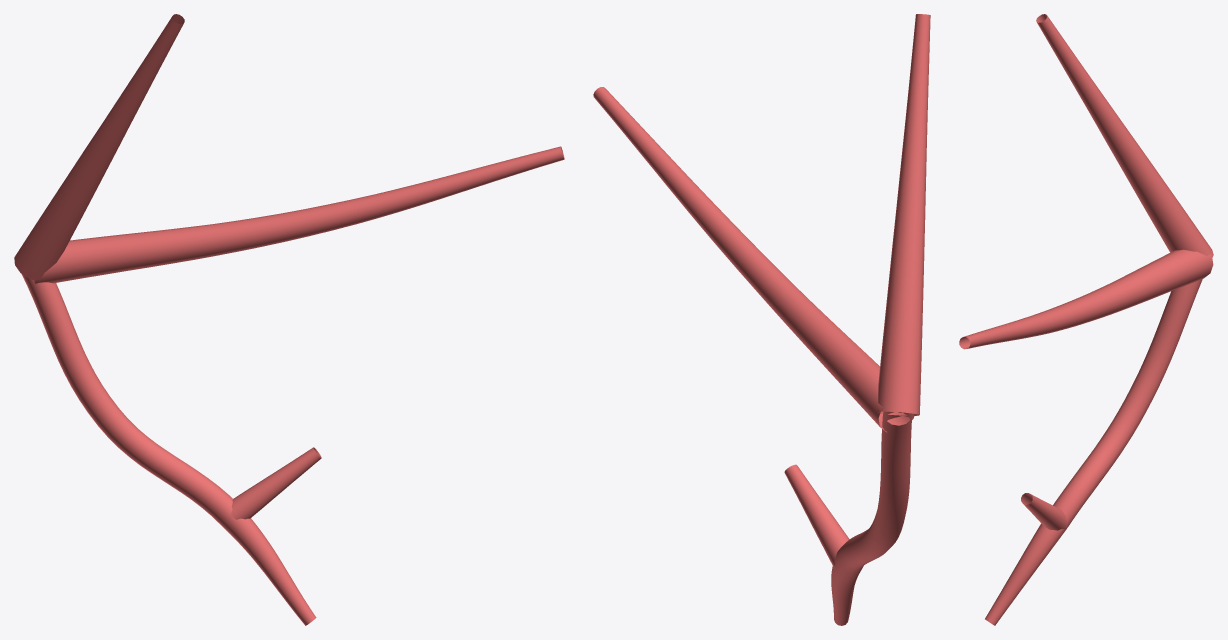
File: Mental_branch_inferior_alveolar_artery_right.glb
3 renders of one model, left to right at view 1: azimuth 30°, elevation 25°; view 2: azimuth 150°, elevation 25°; view 3: azimuth 270°, elevation 25°, orthographic. The views are drawn at different scales.
Visible parts, largest first — view 1: Mental_branch_of_inferior_alveolar_artery.r_BezierCurve.090; view 2: Mental_branch_of_inferior_alveolar_artery.r_BezierCurve.090; view 3: Mental_branch_of_inferior_alveolar_artery.r_BezierCurve.090.
Boxes of the visible parts, left/top/right/bottom form: Mental_branch_of_inferior_alveolar_artery.r_BezierCurve.090: left=14, top=14, right=564, bottom=625; Mental_branch_of_inferior_alveolar_artery.r_BezierCurve.090: left=593, top=14, right=930, bottom=625; Mental_branch_of_inferior_alveolar_artery.r_BezierCurve.090: left=959, top=14, right=1213, bottom=625.
Bounding box in the file's own units: 0.00709 × 0.00983 × 0.00402.
